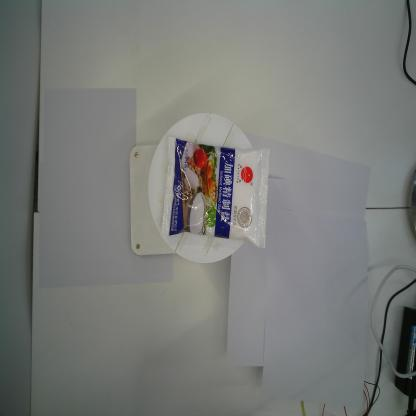Seasoner: (160, 135, 270, 249)
